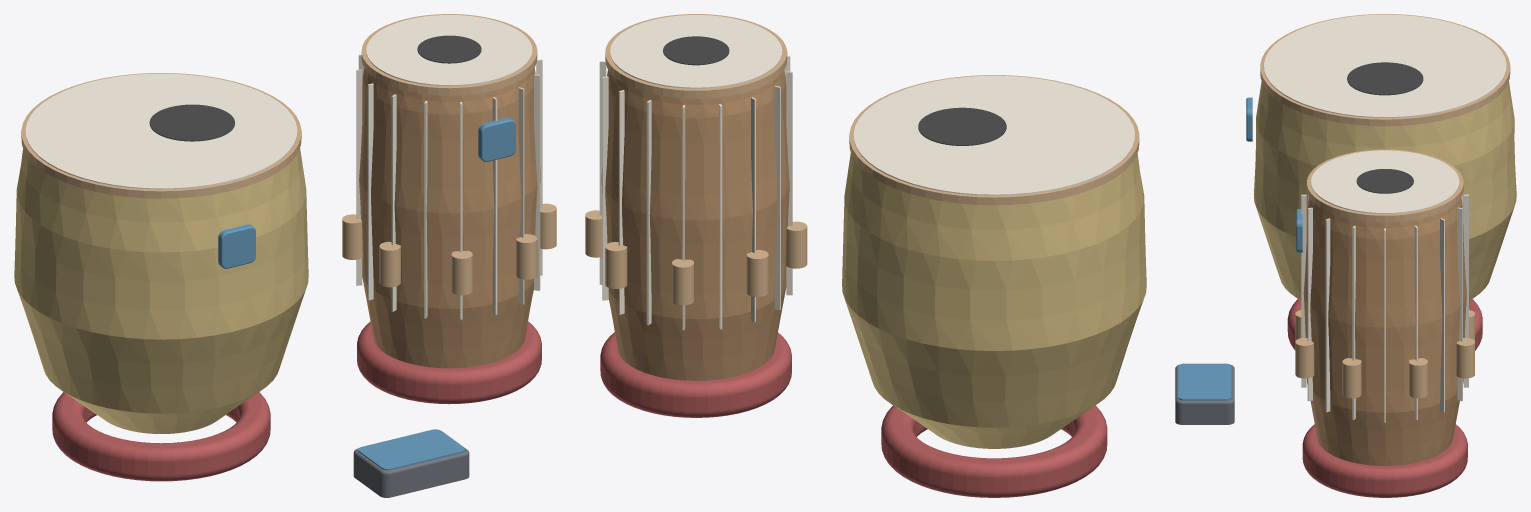
Rendered from tabla_iso.glb.
The picture shows the model from 3 angles, left to right: view 1: azimuth 30°, elevation 25°; view 2: azimuth 150°, elevation 25°; view 3: azimuth 270°, elevation 25°; orthographic projection. The views are drawn at different scales.
Visible parts, largest first — view 1: 028_bayan shell, 000_dayan shell, 029_bayan head, 033_cushion, 001_dayan head, 032_cushion, 031_bayan rim, 036_base unit, 037_base unit lid, 030_bayan syahi, 003_dayan rim, 002_dayan syahi (+15 smaller); view 2: 028_bayan shell, 000_dayan shell, 029_bayan head, 033_cushion, 001_dayan head, 032_cushion, 031_bayan rim, 030_bayan syahi, 003_dayan rim, 002_dayan syahi, 012_strap, 006_strap (+12 smaller); view 3: 000_dayan shell, 028_bayan shell, 029_bayan head, 001_dayan head, 032_cushion, 031_bayan rim, 030_bayan syahi, 037_base unit lid, 003_dayan rim, 036_base unit, 002_dayan syahi, 018_strap (+13 smaller).
Part boxes in pixels (x1,y1,x2,y2): 028_bayan shell: [14, 148, 308, 433]; 000_dayan shell: [359, 68, 540, 368]; 029_bayan head: [25, 73, 297, 189]; 033_cushion: [52, 392, 270, 481]; 001_dayan head: [366, 15, 532, 86]; 032_cushion: [357, 321, 541, 404]; 031_bayan rim: [21, 73, 301, 198]; 036_base unit: [353, 432, 469, 497]; 037_base unit lid: [358, 429, 464, 470]; 030_bayan syahi: [149, 104, 234, 141]; 003_dayan rim: [361, 14, 537, 95]; 002_dayan syahi: [417, 35, 481, 63]; 028_bayan shell: [842, 153, 1146, 448]; 000_dayan shell: [601, 70, 789, 380]; 029_bayan head: [853, 75, 1134, 195]; 033_cushion: [881, 405, 1107, 497]; 001_dayan head: [610, 15, 782, 88]; 032_cushion: [600, 332, 791, 417]; 031_bayan rim: [849, 75, 1139, 205]; 030_bayan syahi: [918, 107, 1006, 145]; 003_dayan rim: [605, 14, 787, 98]; 002_dayan syahi: [663, 36, 729, 65]; 012_strap: [774, 85, 780, 310]; 006_strap: [602, 76, 608, 300]; 000_dayan shell: [1303, 197, 1466, 465]; 028_bayan shell: [1254, 81, 1516, 300]; 029_bayan head: [1264, 14, 1506, 117]; 001_dayan head: [1311, 150, 1459, 213]; 032_cushion: [1302, 424, 1467, 497]; 031_bayan rim: [1260, 14, 1510, 126]; 030_bayan syahi: [1347, 62, 1423, 95]; 037_base unit lid: [1178, 363, 1231, 400]; 003_dayan rim: [1306, 149, 1463, 222]; 036_base unit: [1175, 365, 1234, 424]; 002_dayan syahi: [1356, 169, 1413, 193]; 018_strap: [1325, 218, 1330, 412].
Bounding box in the file's own units: 0.4885 × 0.2968 × 0.3219.
